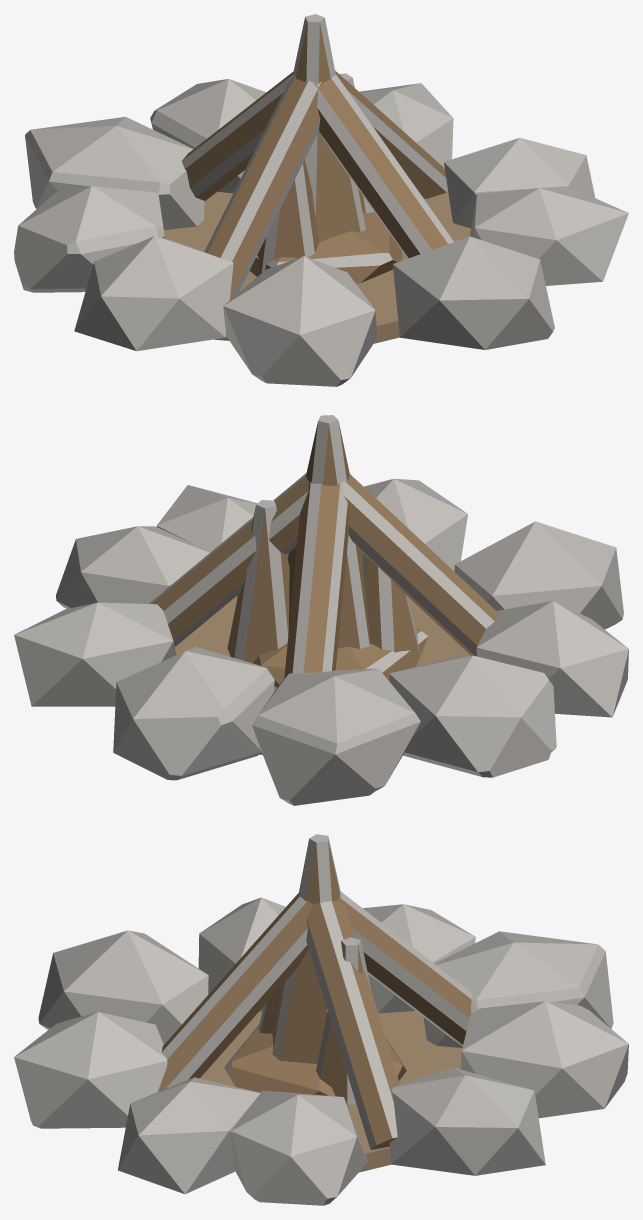
File: asset_hearth_unlit.glb
The picture shows the model from 3 angles, top to bottom: view 1: azimuth 30°, elevation 25°; view 2: azimuth 150°, elevation 25°; view 3: azimuth 270°, elevation 25°; orthographic projection. The views are drawn at different scales.
Visible parts, largest first — view 1: asset_hearth_unlit; view 2: asset_hearth_unlit; view 3: asset_hearth_unlit.
Part boxes in pixels (x1,y1,x2,y2): asset_hearth_unlit: (14,14,628,386); asset_hearth_unlit: (14,415,628,805); asset_hearth_unlit: (14,834,628,1205).
Size of the model in its own units: 0.9521 by 0.4372 by 0.9715.
